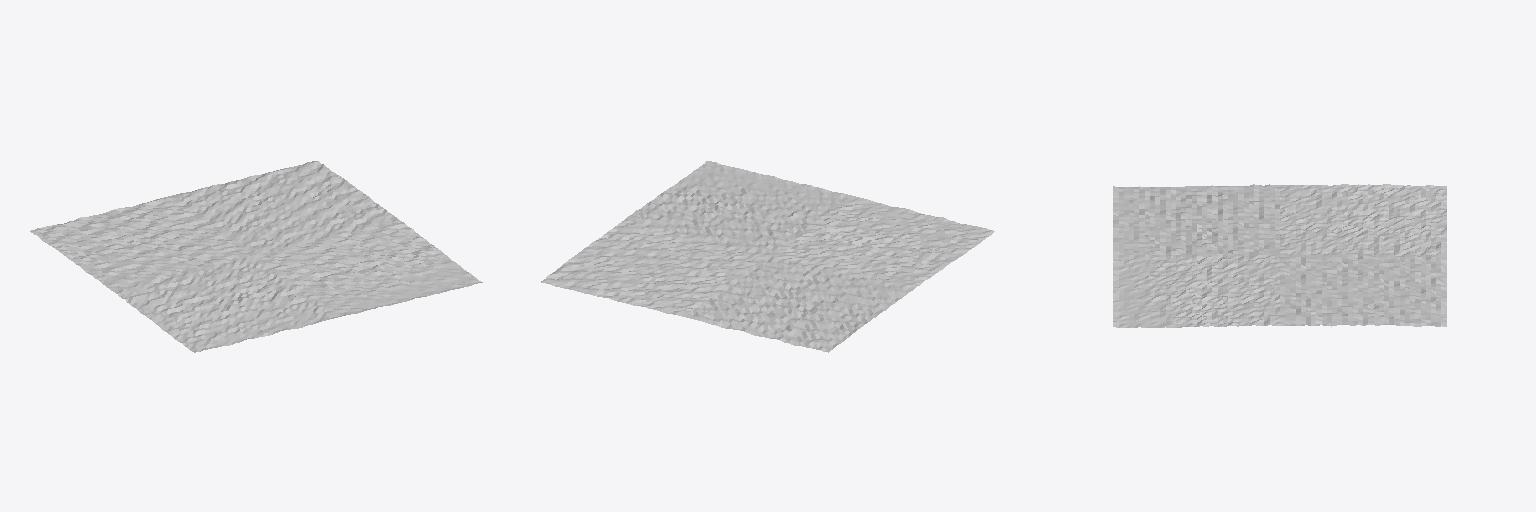
Rendered from jeans high.obj.
3 renders of one model, left to right at view 1: azimuth 30°, elevation 25°; view 2: azimuth 150°, elevation 25°; view 3: azimuth 270°, elevation 25°, orthographic.
Visible parts, largest first — view 1: jeans_height_Plane.006; view 2: jeans_height_Plane.006; view 3: jeans_height_Plane.006.
Boxes of the visible parts, x1=… form: jeans_height_Plane.006: x1=30, y1=161, x2=482, y2=352; jeans_height_Plane.006: x1=541, y1=161, x2=994, y2=352; jeans_height_Plane.006: x1=1113, y1=184, x2=1446, y2=327.
Bounding box in the file's own units: 2 × 0.025 × 2.